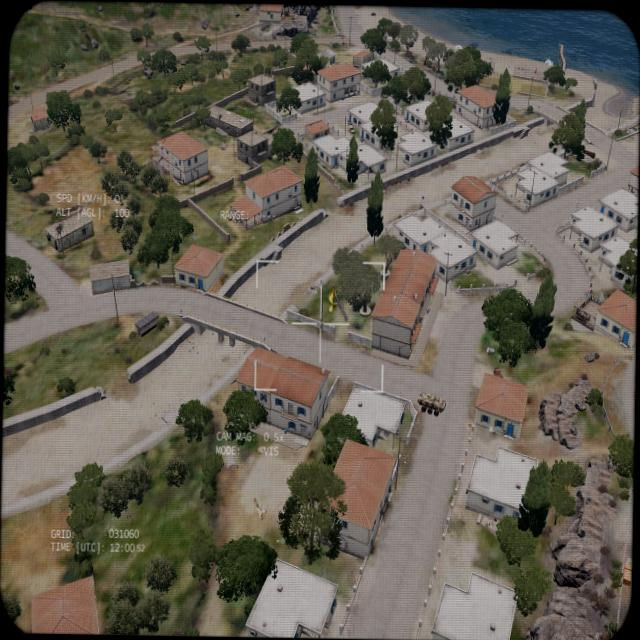apc: (416, 389, 446, 417)
